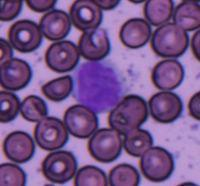M: (72, 58, 127, 113)
